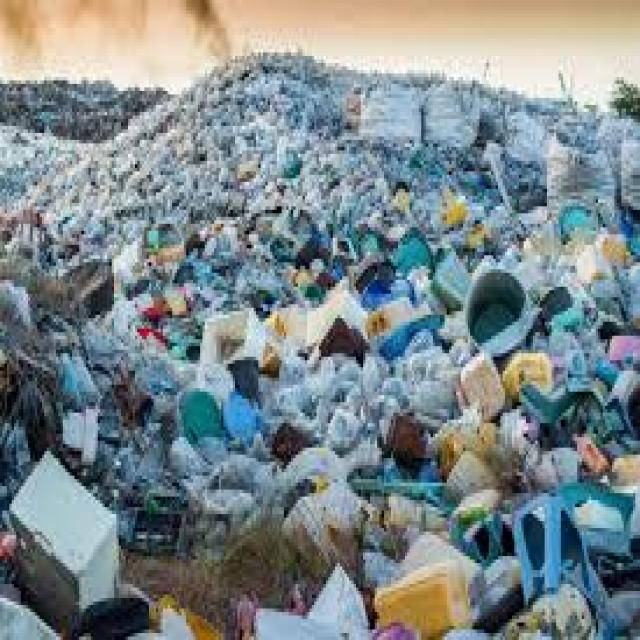heap: (199, 215, 632, 638)
